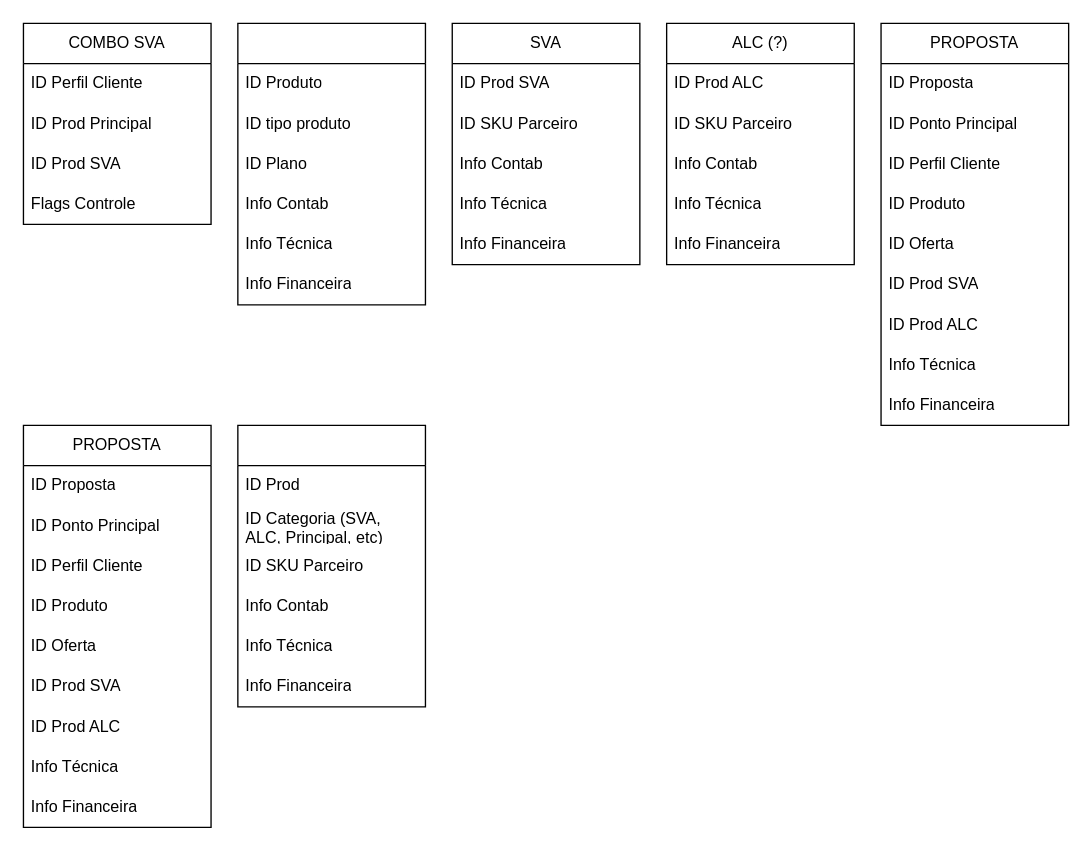
Image size: 1092x851. Some labels were removed from this diagram. Here are the shapes that lost their labels. From the top down, the box of each, then its label:
(237, 22, 425, 305): SN_PRODUTO
(237, 424, 425, 707): PRODUTO
